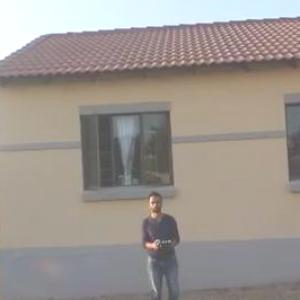follow: (138, 181, 192, 299)
